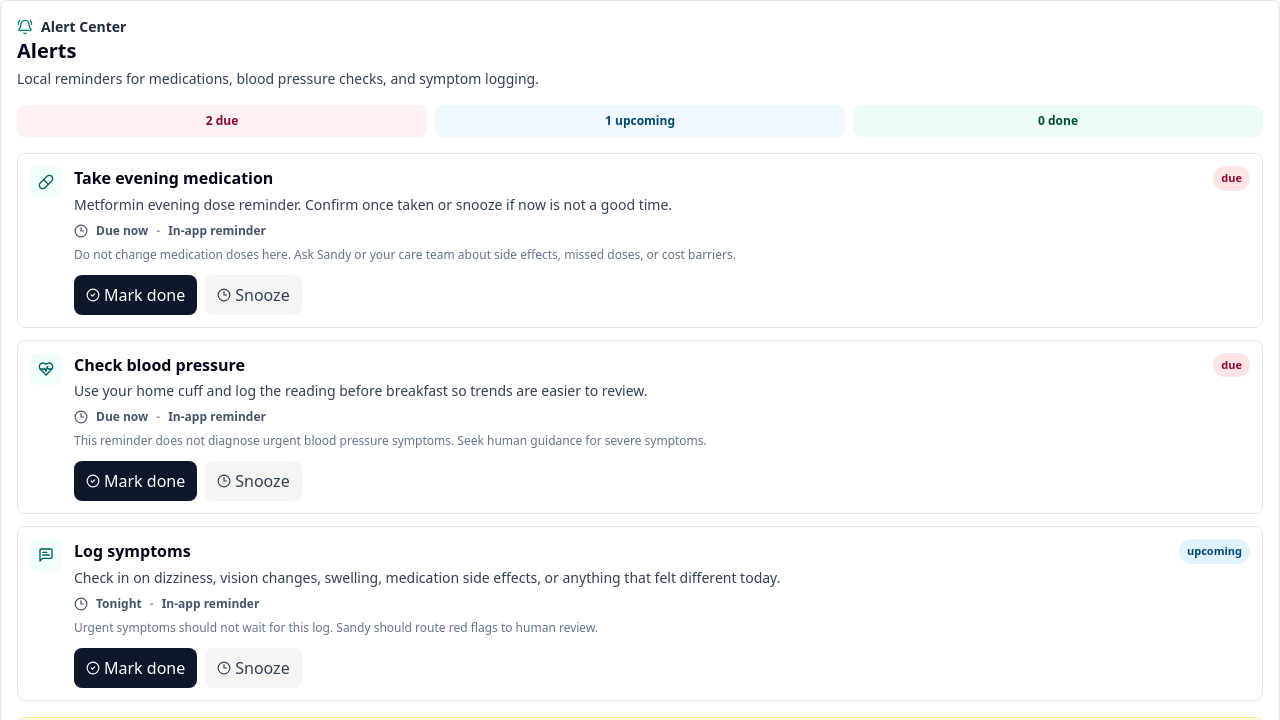
HealthAlertCenter › marks a medication alert done and updates counts
The width and height of the screenshot is (1280, 720).
Click the button with aria-label "Mark Take evening medication done" at (136, 294), box left=74, top=274, right=197, bottom=314
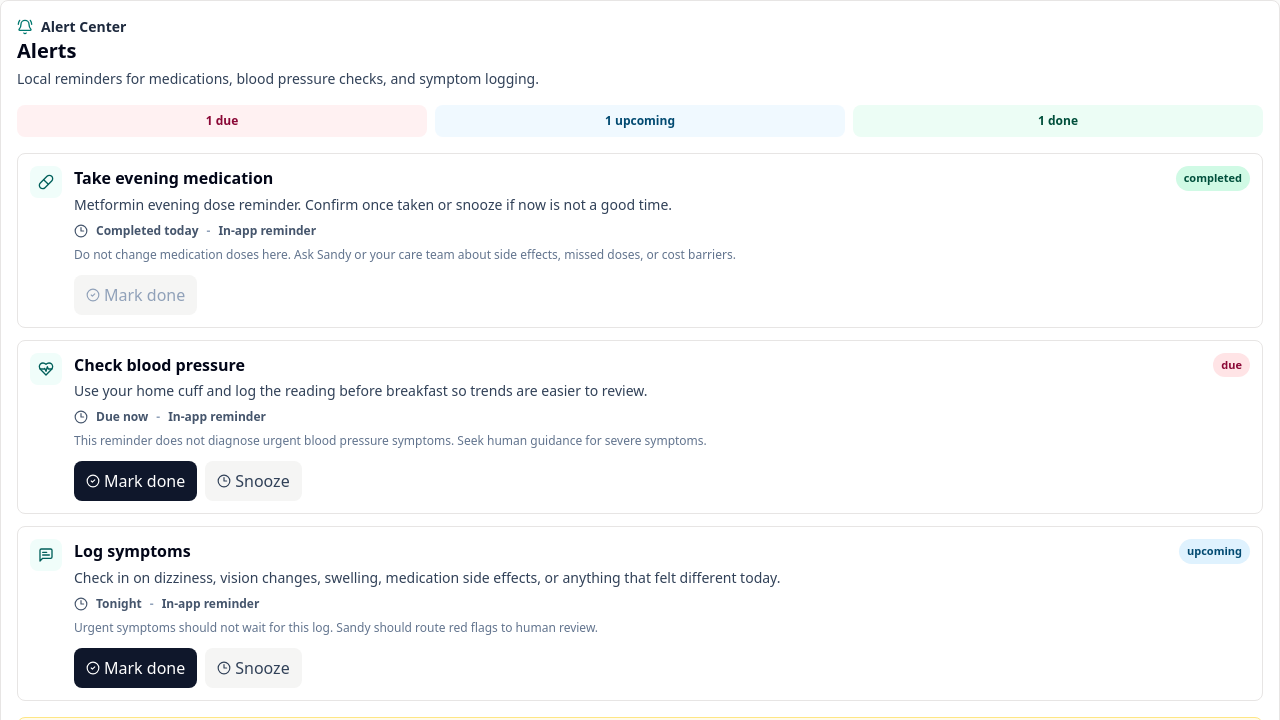
Expected: the text "1 due" is shown, left=17, top=105, right=427, bottom=137
Expected: the text "1 done" is shown, left=853, top=105, right=1263, bottom=137
Expected: the text "Completed today" is shown, left=96, top=222, right=198, bottom=238
